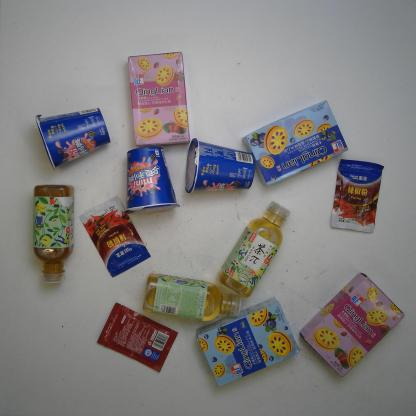Dessert: (301, 274, 405, 376), (196, 301, 296, 391), (244, 100, 346, 184), (127, 52, 190, 146), (34, 102, 112, 170), (186, 136, 254, 196), (126, 147, 182, 214)
Drink: (220, 202, 289, 298), (143, 272, 242, 324), (31, 186, 74, 286)
Seasoner: (80, 197, 150, 276), (98, 303, 178, 371), (332, 154, 384, 236)
